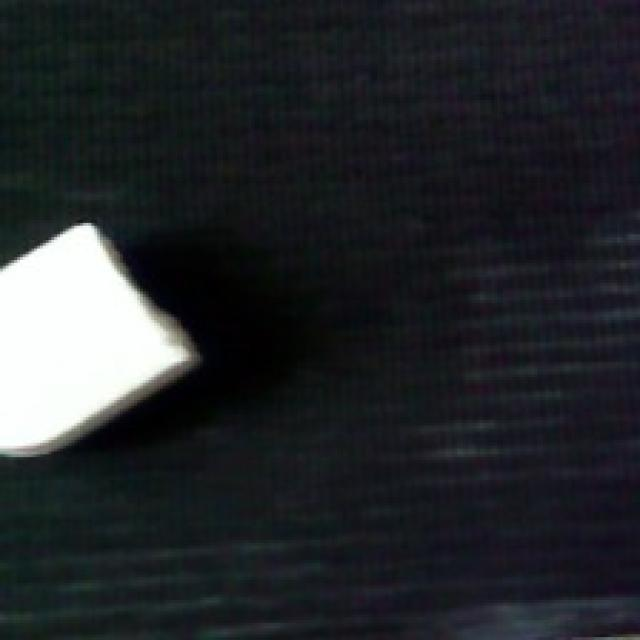defected: (0, 220, 211, 468)
